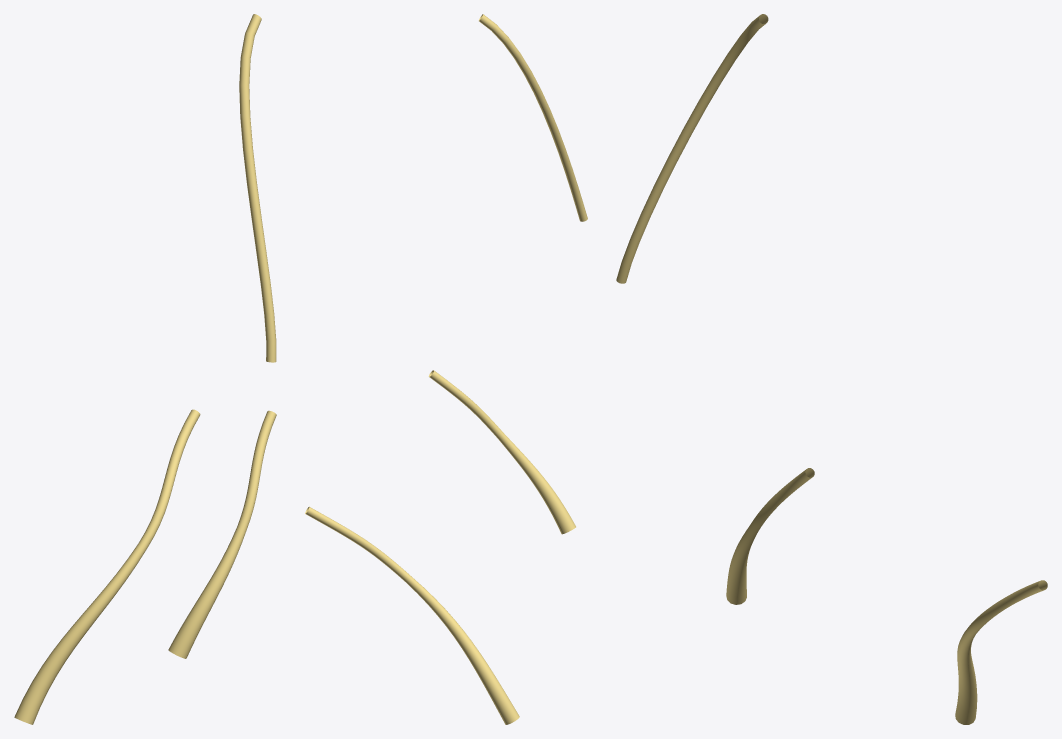
3 views of the same model, side by side, from view 1: azimuth 30°, elevation 25°; view 2: azimuth 150°, elevation 25°; view 3: azimuth 270°, elevation 25° (orthographic). The views are drawn at different scales.
Visible parts, largest first — view 1: ZA_fb90e3ba7ba6287f; view 2: ZA_fb90e3ba7ba6287f; view 3: ZA_fb90e3ba7ba6287f.
Part boxes in pixels (<box>): ZA_fb90e3ba7ba6287f: <box>14,14,276,724</box>; ZA_fb90e3ba7ba6287f: <box>305,14,587,724</box>; ZA_fb90e3ba7ba6287f: <box>616,14,1047,724</box>.
Bounding box in the file's own units: 0.0251 × 0.0817 × 0.0412.
